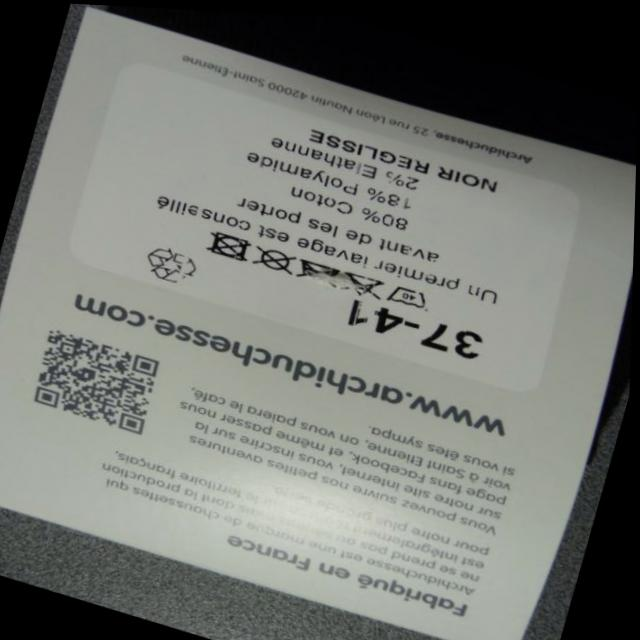qrcode: (32, 327, 165, 434)
